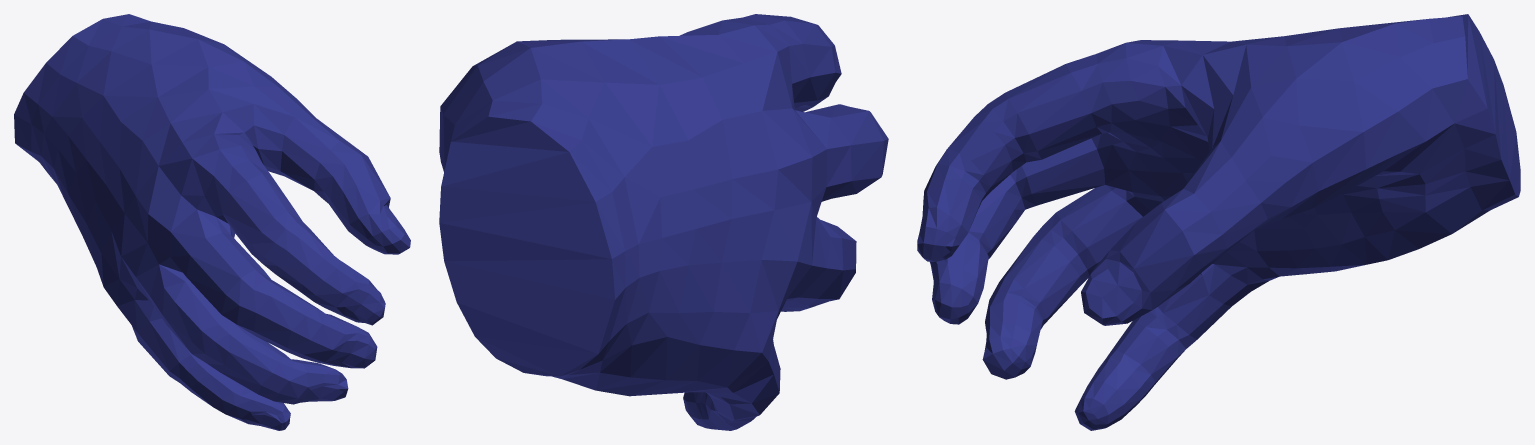
The picture shows the model from 3 angles, left to right: view 1: azimuth 30°, elevation 25°; view 2: azimuth 150°, elevation 25°; view 3: azimuth 270°, elevation 25°; orthographic projection. The views are drawn at different scales.
Bounding box in the file's own units: 0.0975 × 0.1201 × 0.1644.
